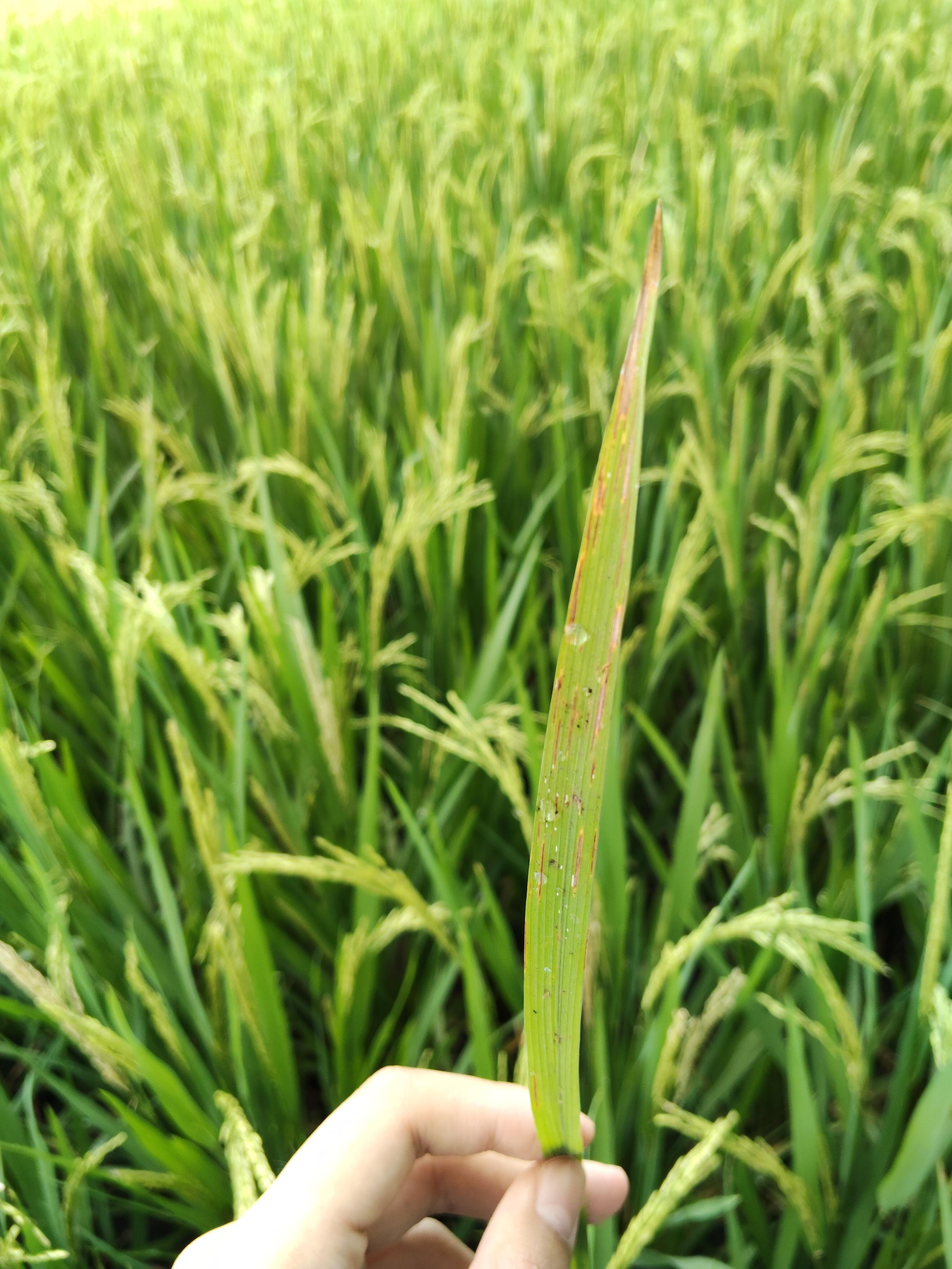NBS: (567, 511, 593, 629), (620, 402, 639, 505), (590, 667, 611, 755), (600, 604, 625, 673), (615, 496, 631, 588), (566, 683, 579, 759), (592, 458, 607, 515), (571, 829, 584, 888), (552, 668, 565, 726), (613, 442, 626, 493), (536, 845, 545, 898), (554, 719, 562, 765), (590, 830, 597, 876), (592, 514, 600, 549), (533, 1074, 539, 1107), (591, 760, 597, 780), (524, 923, 526, 969), (555, 792, 559, 813), (537, 821, 541, 837)
